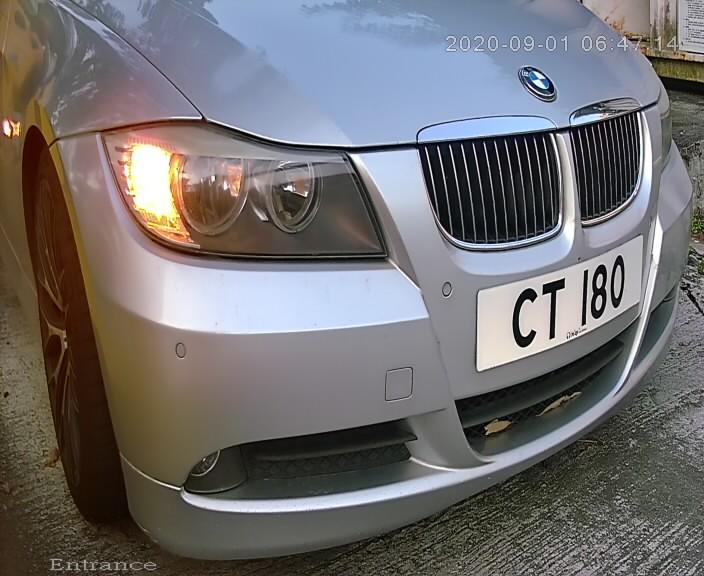Car: (35, 6, 704, 530)
License Plate: (453, 219, 664, 384)
